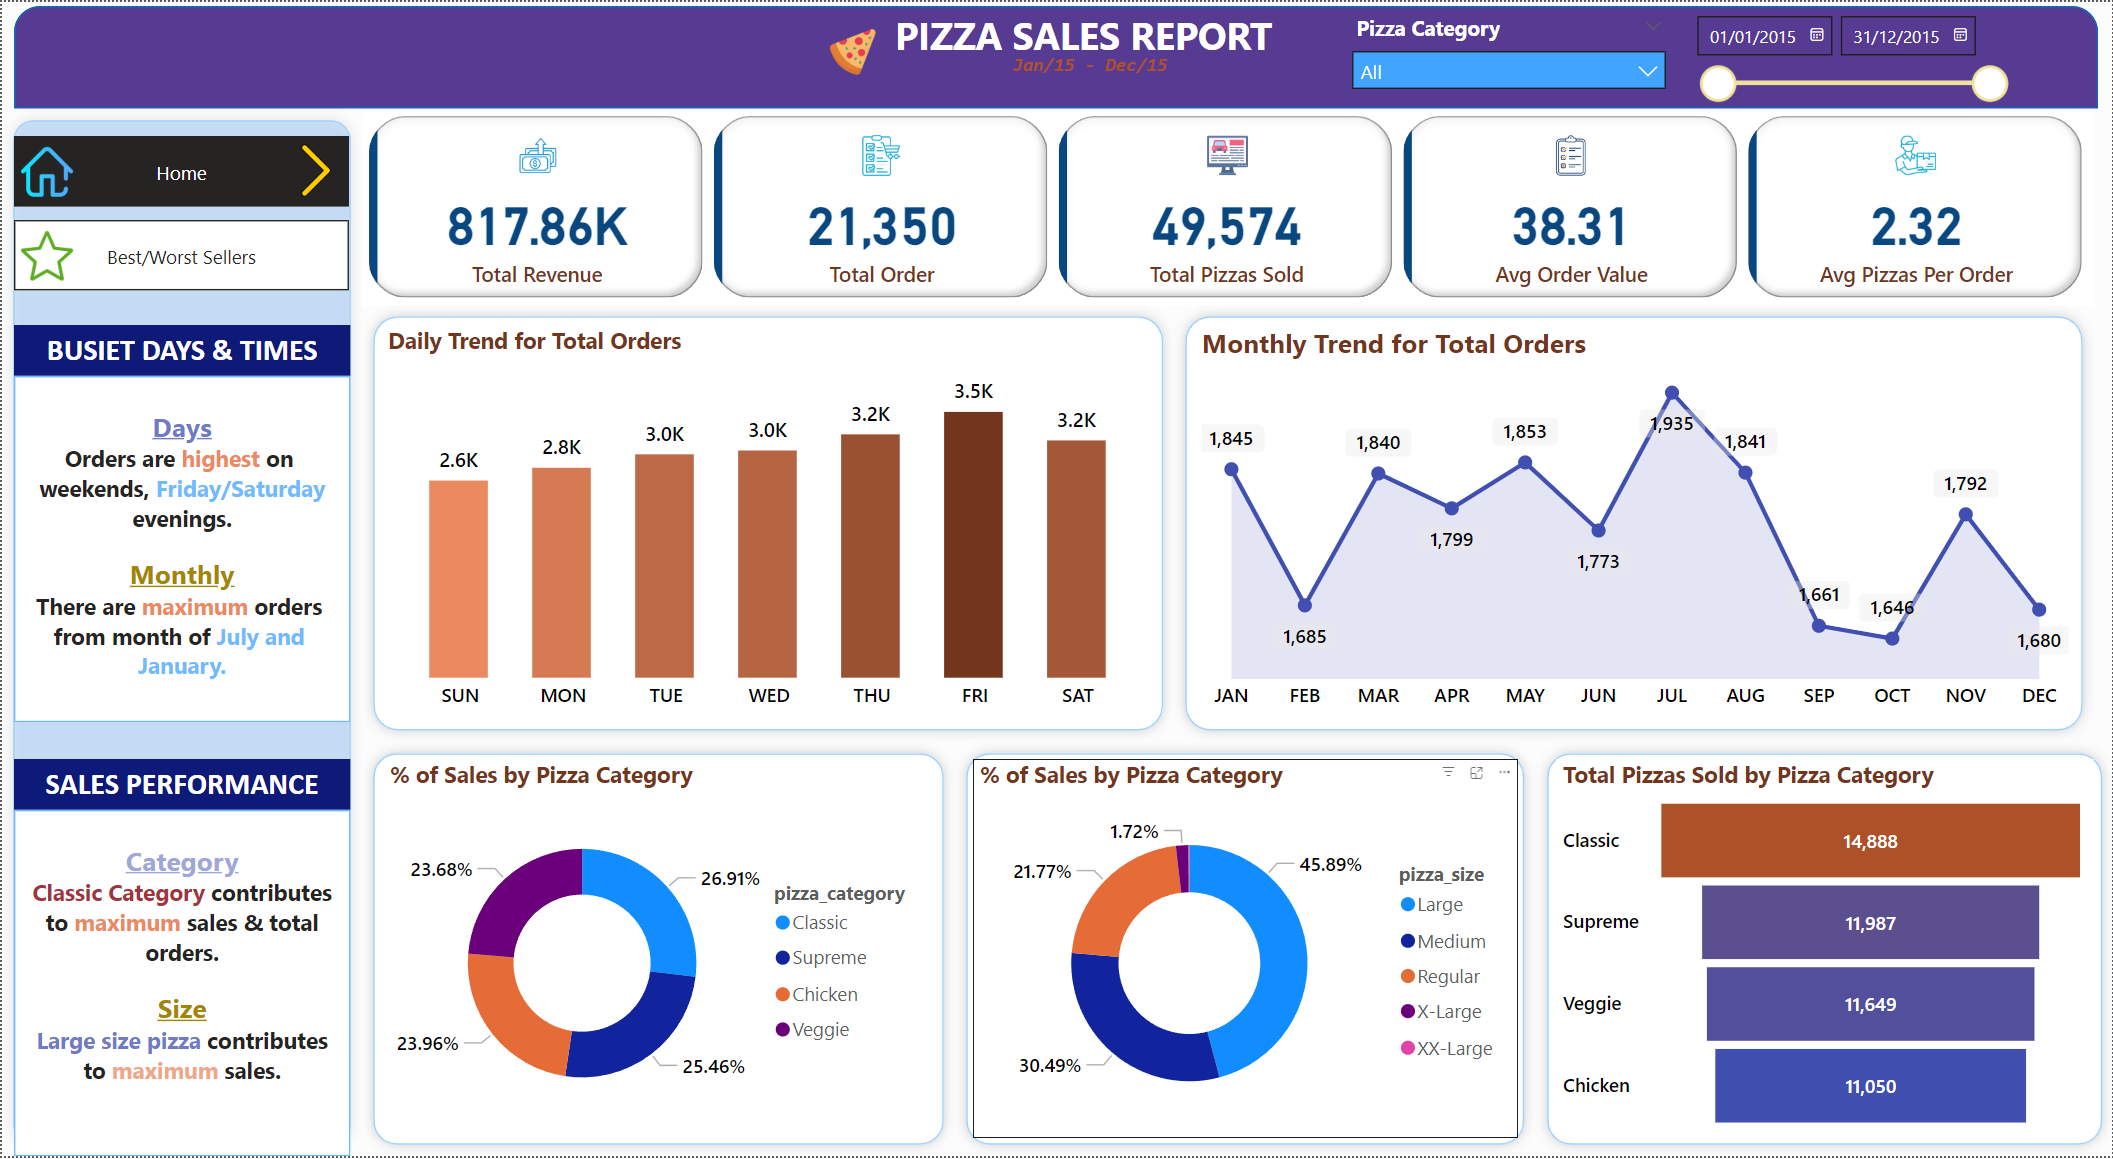

The page's visual inventory and layout, read from the dashboard file:
{"tool":"powerbi","page":{"name":"Home","canvas":[1500,820],"ordinal":0},"visuals":[{"type":"shape","box":[0,75.7,255.9,744.1],"z":0},{"type":"cardVisual","fields":{"Data":["pizza_sales.Total Revenue","pizza_sales.Total Order","pizza_sales.Total Pizzas Sold","pizza_sales.Avg Order Value","pizza_sales.Avg Pizzas Per Order"]},"box":[255.9,75.7,1230.9,139.7],"z":1000},{"type":"shape","box":[8.8,2.9,1480.9,72.8],"z":2000},{"type":"textbox","box":[629.4,0,287.5,45.6],"z":3000},{"type":"textbox","box":[704.4,30.1,137.5,27.2],"z":4000},{"type":"image","box":[575.7,13.2,58.8,44.1],"z":5000},{"type":"shape","box":[255.9,215.4,577.2,310.3],"z":6000},{"type":"clusteredColumnChart","title":"Daily Trend for Total Orders","fields":{"Category":["pizza_sales.Order Day"],"Y":["pizza_sales.Total Order"]},"box":[269.1,229.4,551.5,281.6],"z":7000},{"type":"shape","box":[833.1,215.4,653.7,310.3],"z":8000},{"type":"areaChart","title":"Monthly Trend for Total Orders","fields":{"Y":["pizza_sales.Total Order"],"Category":["pizza_sales.Order Month"]},"box":[847.8,229.4,625.7,281.6],"z":9000},{"type":"shape","box":[255.9,525.7,421.3,294.1],"z":10000},{"type":"shape","box":[677.2,525.7,412.5,294.1],"z":11000},{"type":"shape","box":[1089.7,525.7,410.3,294.1],"z":12000},{"type":"donutChart","title":"% of Sales by Pizza Category","fields":{"Category":["pizza_sales.pizza_category"],"Y":["pizza_sales.Total Revenue"]},"box":[270.6,538.2,391.9,269.1],"z":13000},{"type":"donutChart","title":"% of Sales by Pizza Category","fields":{"Y":["pizza_sales.Total Revenue"],"Category":["pizza_sales.pizza_size"]},"box":[689.7,538.2,387.5,269.1],"z":14000},{"type":"funnel","title":"Total Pizzas Sold by Pizza Category","fields":{"Y":["pizza_sales.Total Pizzas Sold"],"Category":["pizza_sales.pizza_category"]},"box":[1104.4,538.2,382.4,269.1],"z":15000},{"type":"textbox","box":[8.8,229.4,239,36],"z":16000},{"type":"textbox","box":[8.8,265.4,239,245.6],"z":17000},{"type":"textbox","box":[8.8,538.2,239,36],"z":18000},{"type":"textbox","box":[8.8,574.3,239,245.6],"z":19000},{"type":"slicer","fields":{"Values":["pizza_sales.pizza_category"]},"box":[949.3,2.9,242.6,64.7],"z":20000},{"type":"slicer","fields":{"Values":["pizza_sales.order_date"]},"box":[1191.9,0,242.6,75.7],"z":21000},{"type":"pageNavigator","box":[8.5,95.3,238.7,50.1],"z":22000},{"type":"pageNavigator","box":[8.5,154.7,238.7,50.1],"z":23000},{"type":"image","box":[199.9,95.3,47.3,48],"z":24000},{"type":"image","box":[8.5,154.7,47.3,50.1],"z":25000},{"type":"image","box":[8.5,95.3,47.3,50.1],"z":26000}]}

Visuals, with their boxes in screenshot pixels (x1, y1, x2, y2), scaled from the page's 1500x820 canvas onto the 2113x1159 screenshot:
shape: bbox=[0, 107, 360, 1158]
cardVisual - pizza_sales.Total Revenue x pizza_sales.Total Order: bbox=[360, 107, 2094, 304]
shape: bbox=[12, 4, 2098, 107]
textbox: bbox=[887, 0, 1292, 64]
textbox: bbox=[992, 43, 1186, 81]
image: bbox=[811, 19, 894, 81]
shape: bbox=[360, 304, 1174, 743]
"Daily Trend for Total Orders" clusteredColumnChart: bbox=[379, 324, 1156, 722]
shape: bbox=[1174, 304, 2094, 743]
"Monthly Trend for Total Orders" areaChart: bbox=[1194, 324, 2076, 722]
shape: bbox=[360, 743, 954, 1158]
shape: bbox=[954, 743, 1535, 1158]
shape: bbox=[1535, 743, 2112, 1158]
"% of Sales by Pizza Category" donutChart: bbox=[381, 761, 933, 1141]
"% of Sales by Pizza Category" donutChart: bbox=[972, 761, 1517, 1141]
"Total Pizzas Sold by Pizza Category" funnel: bbox=[1556, 761, 2094, 1141]
textbox: bbox=[12, 324, 349, 375]
textbox: bbox=[12, 375, 349, 722]
textbox: bbox=[12, 761, 349, 812]
textbox: bbox=[12, 812, 349, 1158]
slicer - pizza_sales.pizza_category: bbox=[1337, 4, 1679, 96]
slicer - pizza_sales.order_date: bbox=[1679, 0, 2021, 107]
pageNavigator: bbox=[12, 135, 348, 206]
pageNavigator: bbox=[12, 219, 348, 289]
image: bbox=[282, 135, 348, 203]
image: bbox=[12, 219, 79, 289]
image: bbox=[12, 135, 79, 206]
